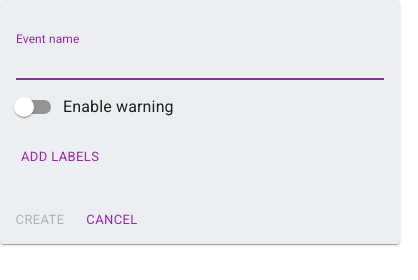
Scenario: EditEventCard › Labels › shows label input when Add labels is clicked
Click the button "Add labels".
click(60, 157)  # box [16, 142, 104, 173]
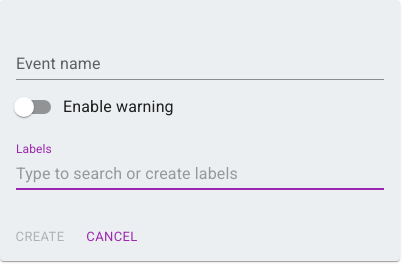
Expected: the dropdown labelled "Labels" is shown, [16, 158, 384, 189]
